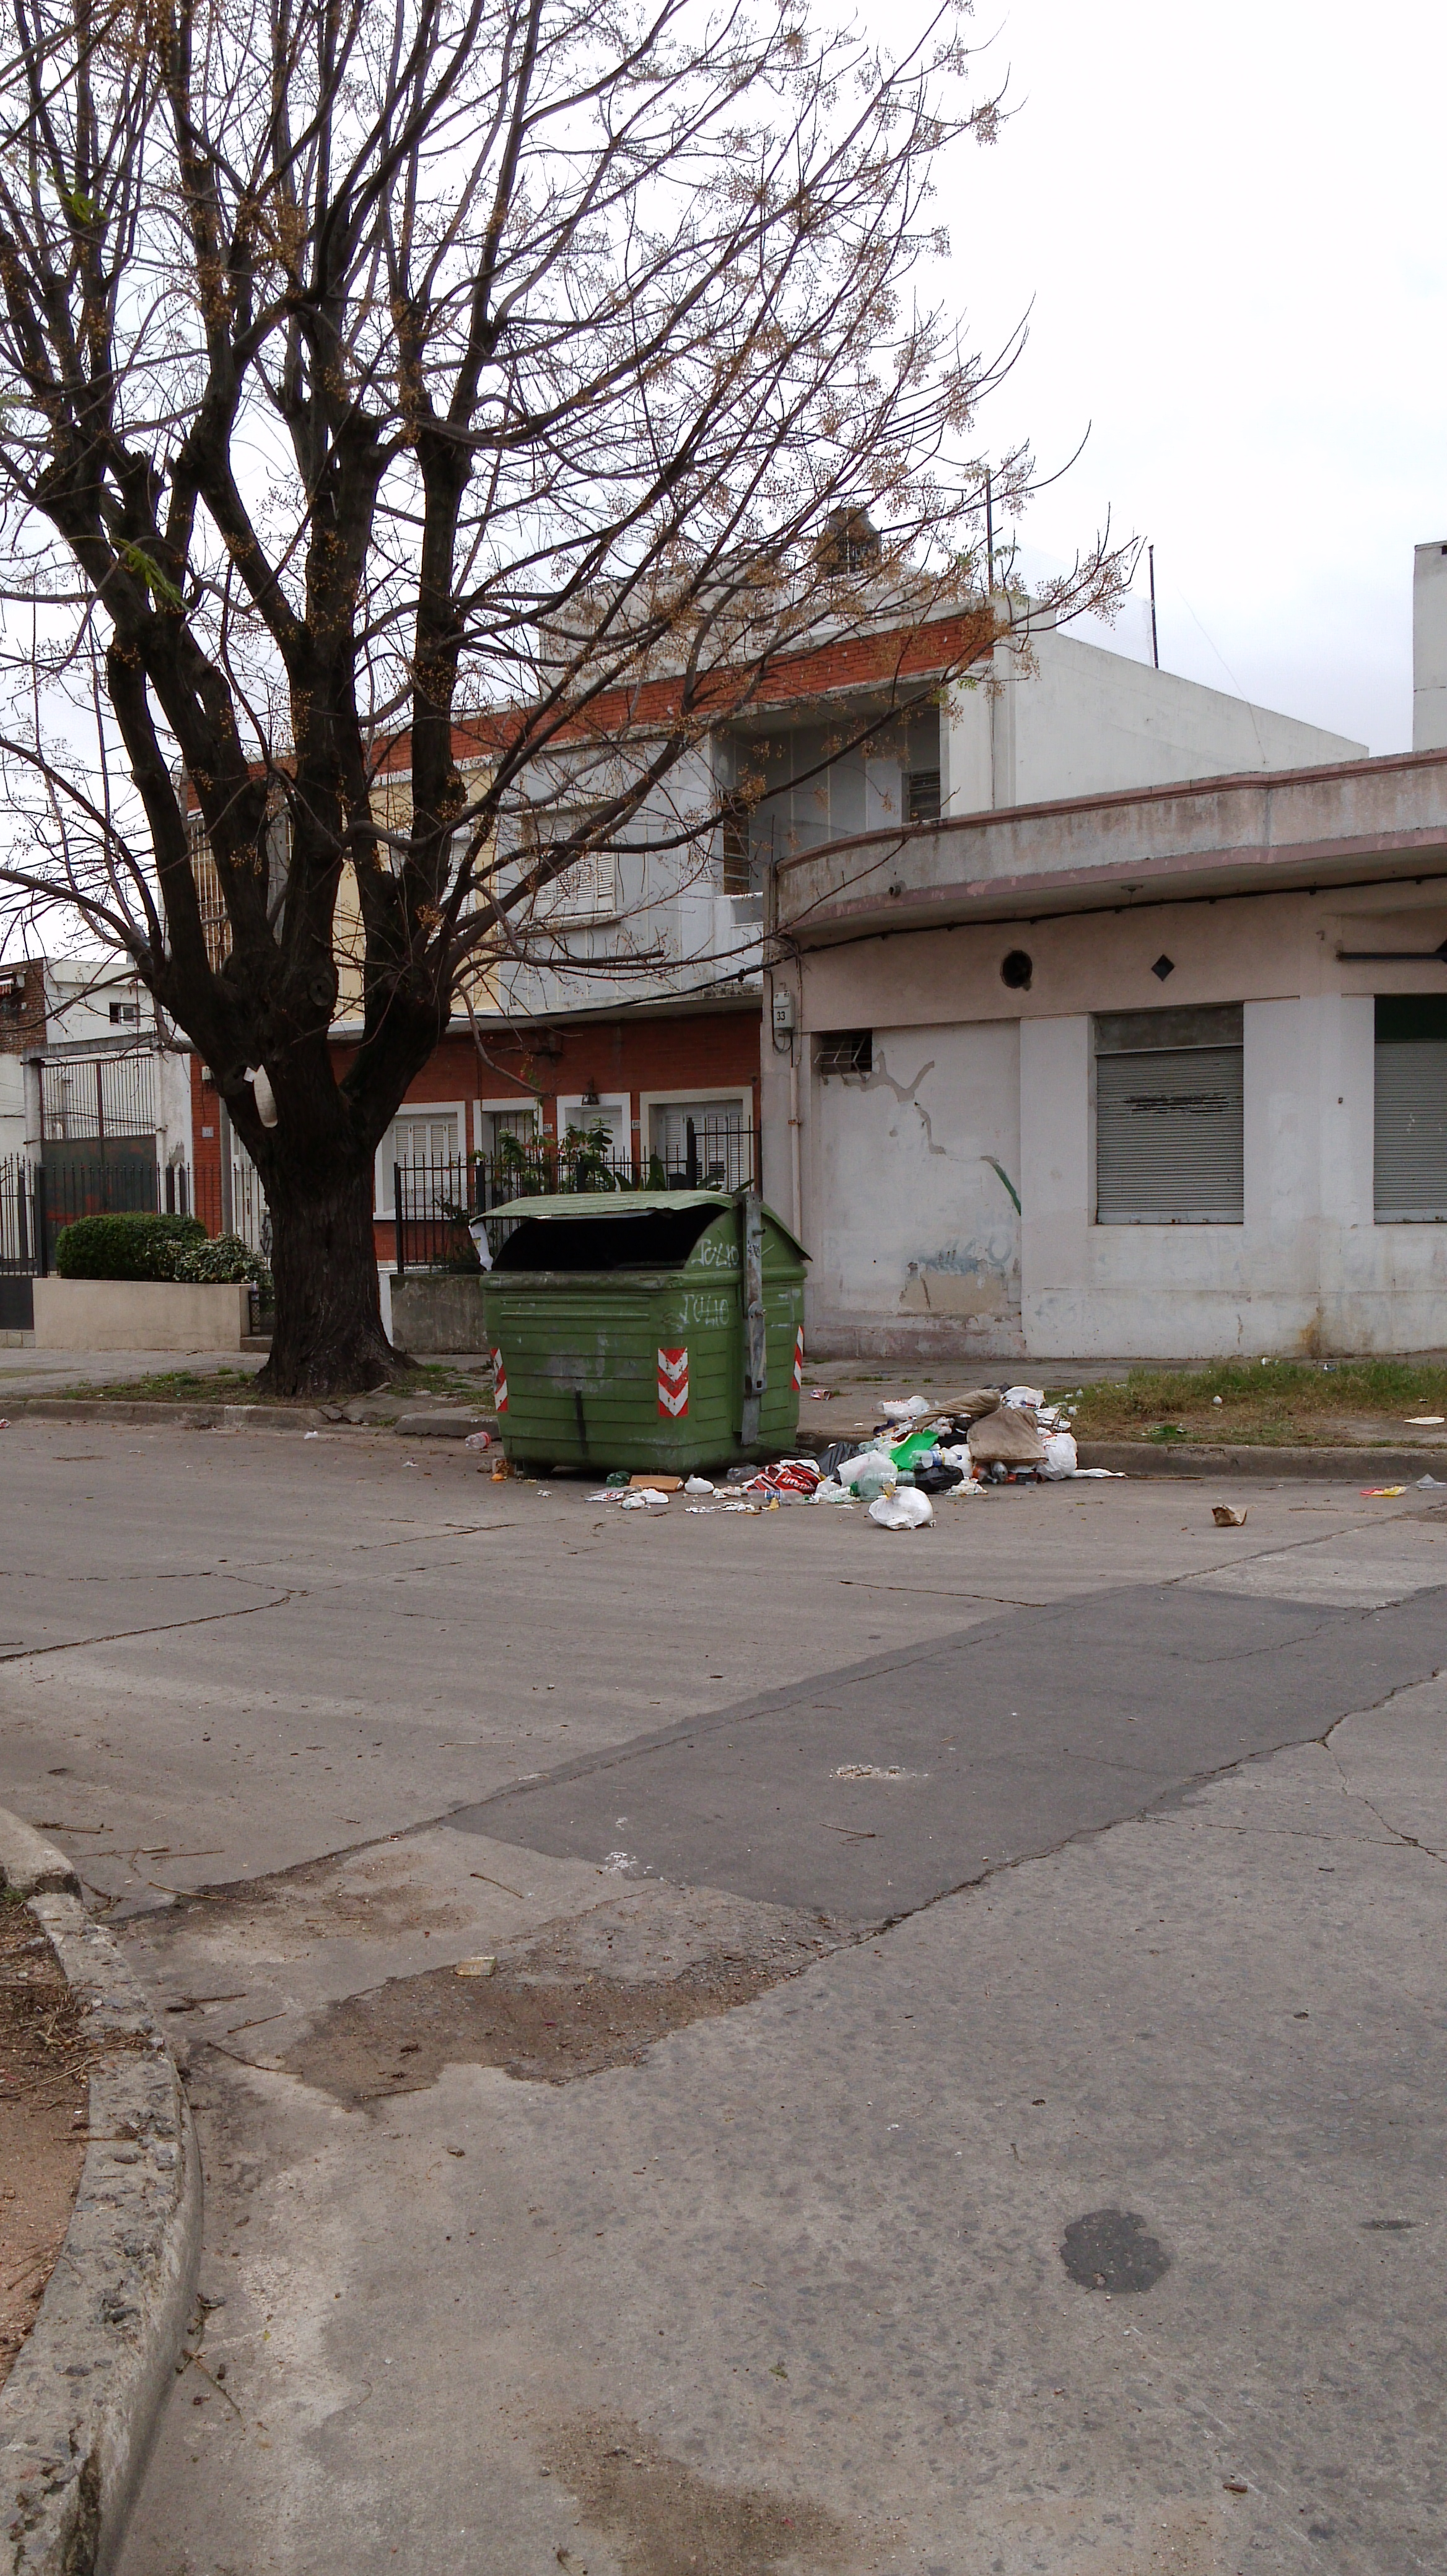container: (460, 1185, 808, 1486)
